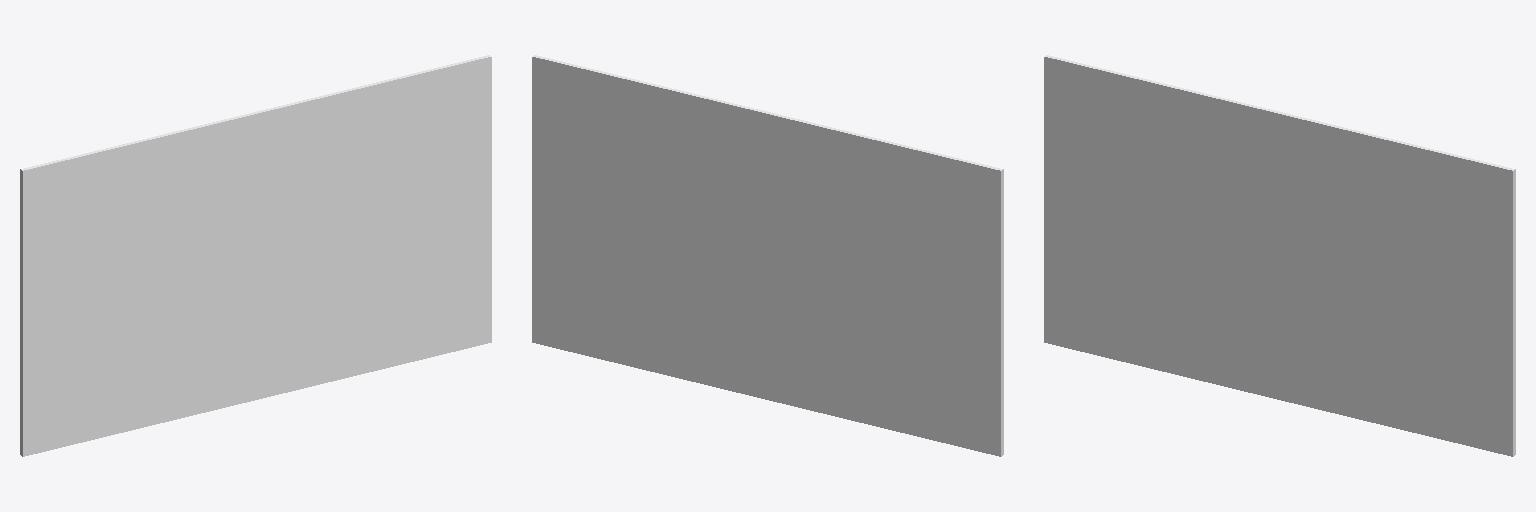
URDF robot description (table.urdf):
<?xml version="0.0" ?>
<robot name="table.urdf">
  <link name="baseLink">
    <contact>
      <lateral_friction value="1.0"/>
    </contact>
    <inertial>
      <origin rpy="0 0 0" xyz="0 0 0"/>
       <mass value=".0"/>
       <inertia ixx="1" ixy="0" ixz="0" iyy="1" iyz="0" izz="1"/>
    </inertial>
    <visual>
      <origin rpy="0 0 0" xyz="0 5 2"/>
      <geometry>
				<mesh filename="snow_center.obj" scale="12 0.1 7"/>
      </geometry>
       <material name="white">
        <color rgba="1 1 1 1"/>
      </material>
    </visual>
  </link>
</robot>

--- Facts derived from the render (not from the file) ---
3 views of the same robot in one strip: view 1: azimuth 30°, elevation 25°; view 2: azimuth 150°, elevation 25°; view 3: azimuth 330°, elevation 25° (orthographic).
Model table.urdf with 1 links and 0 joints (none), rooted at baseLink, posed all joints at 0.
Links seen in each view (by area): view 1: baseLink; view 2: baseLink; view 3: baseLink.
Link boxes in pixels (<box>): baseLink: <box>20,55,491,456</box>; baseLink: <box>532,55,1003,456</box>; baseLink: <box>1044,55,1515,456</box>.
Size in the robot's own frame: 12 by 0.1 by 7 metres.
Meshes: 1 distinct files referenced, 1 mesh visuals loaded (1 OBJ).
